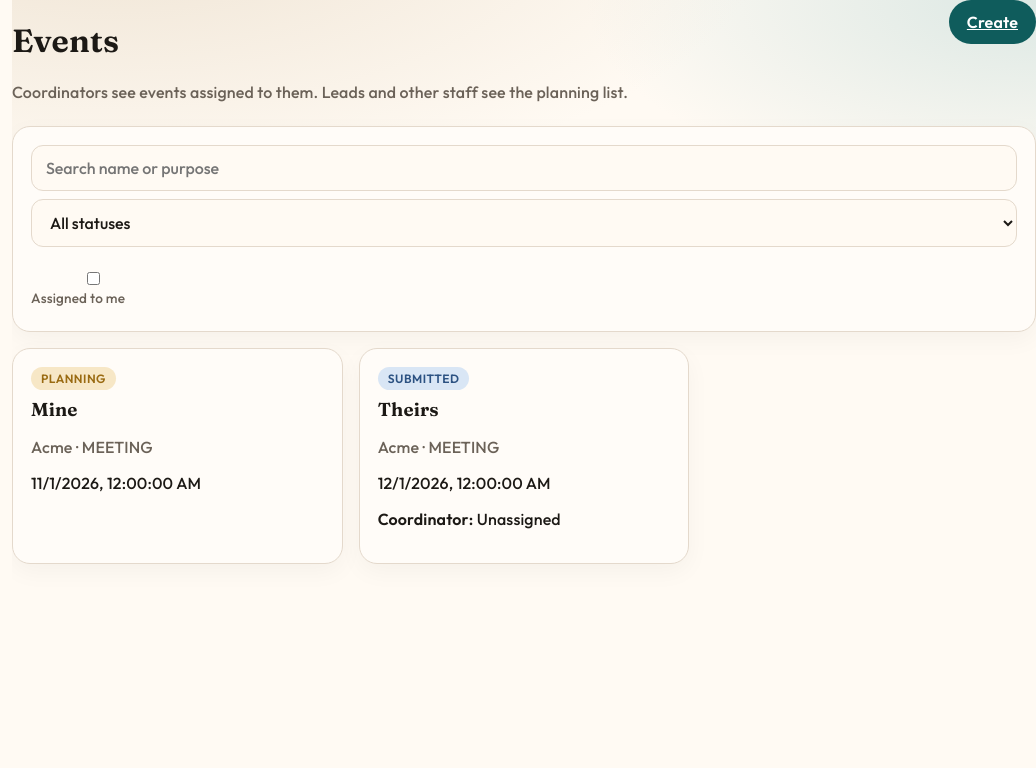
Scenario: SCRUM-84 coordinator event list › AC3: a Lead can still narrow the list to events assigned to them
Expected: the heading "Theirs" is shown, [378, 398, 439, 421]
Click the checkbox labelled "Assigned to me".
click(93, 278)  # box [35, 272, 152, 285]
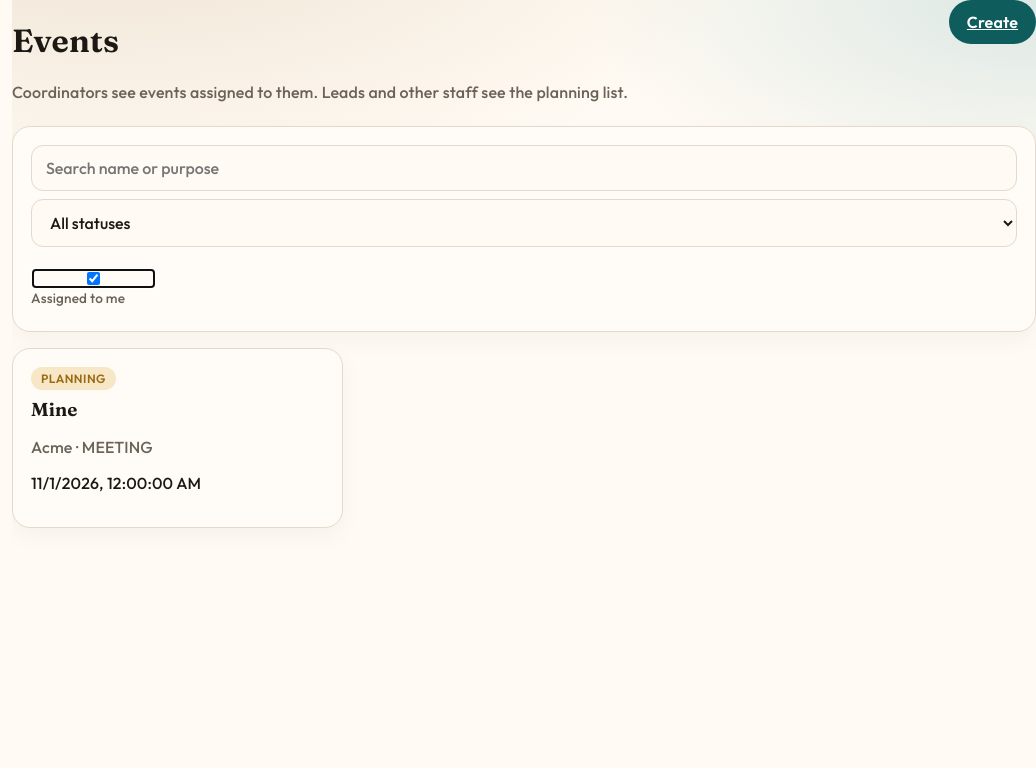
Expected: the heading "Mine" is shown, [31, 398, 78, 421]
Expected: the link "Theirs" is gone
